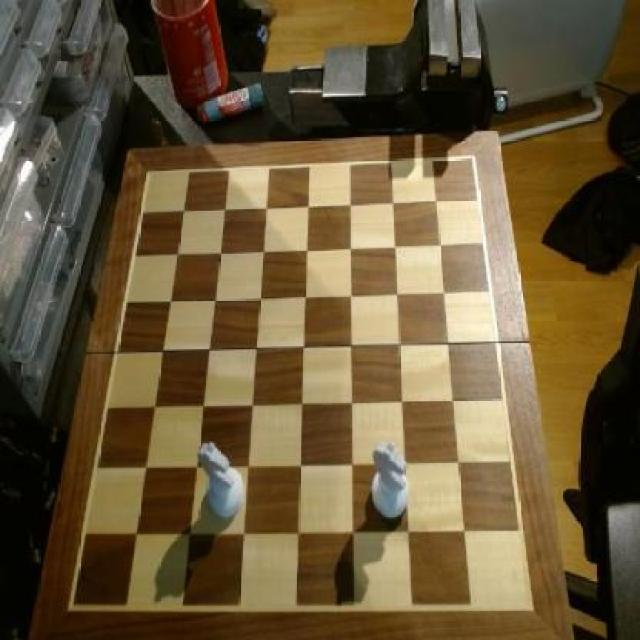white-king: (199, 438, 246, 520), (369, 437, 414, 519)
